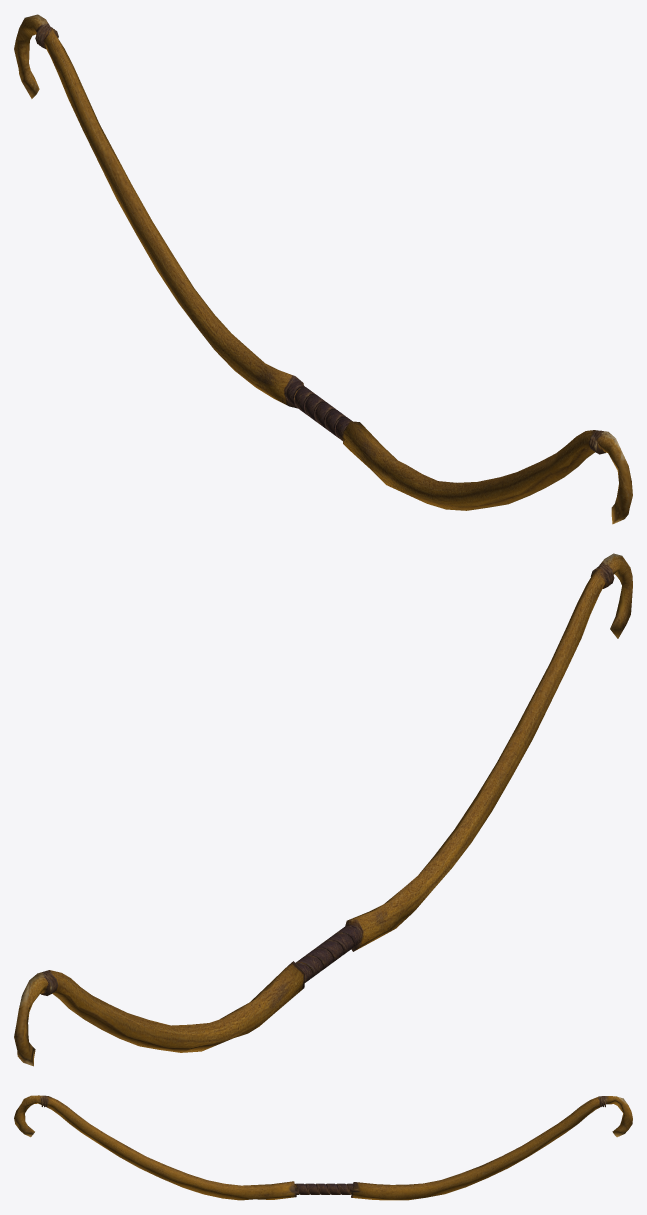
File: mm6_arc1_bow.glb
3 views of the same model, one above another, from view 1: azimuth 30°, elevation 25°; view 2: azimuth 150°, elevation 25°; view 3: azimuth 270°, elevation 25° (orthographic). The views are drawn at different scales.
Parts seen in each view (by area): view 1: Bow; view 2: Bow; view 3: Bow.
Part boxes in pixels (<box>): Bow: <box>14,14,632,524</box>; Bow: <box>14,553,632,1066</box>; Bow: <box>14,1095,632,1200</box>.
Bounding box in the file's own units: 0.0221 × 0.2258 × 1.2.
Materials: 1 (1 with a texture image).
